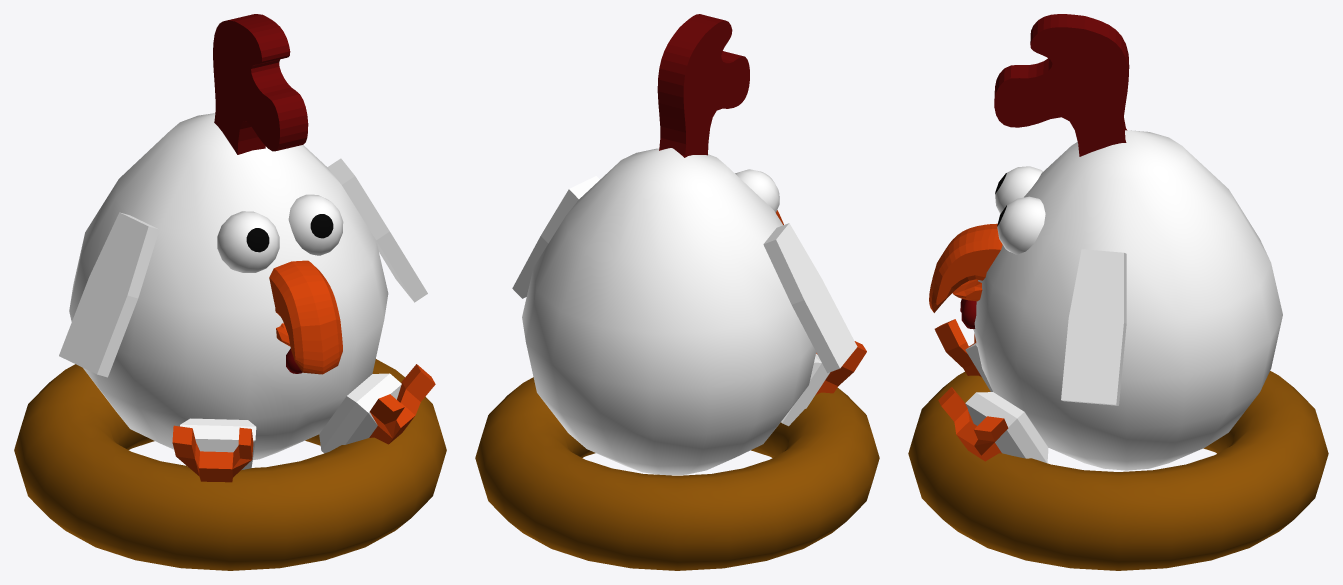
File: poulet.FBX
3 views of the same model, side by side, from view 1: azimuth 30°, elevation 25°; view 2: azimuth 150°, elevation 25°; view 3: azimuth 270°, elevation 25° (orthographic). The views are drawn at different scales.
Visible parts, largest first — view 1: poulet; view 2: poulet; view 3: poulet.
Part boxes in pixels (bbox=[...]): poulet: bbox=[14, 14, 446, 570]; poulet: bbox=[475, 14, 879, 570]; poulet: bbox=[908, 14, 1328, 570].
Bounding box in the file's own units: 336 × 422 × 336.
